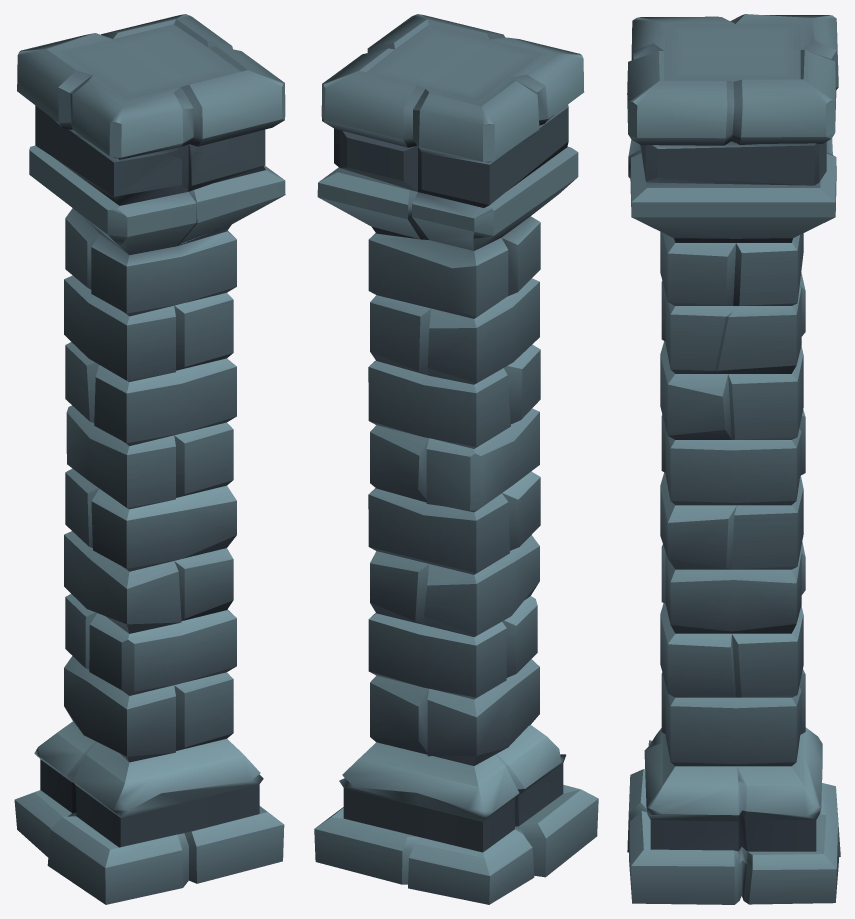
Rendered from Modular_Dungeon_Pillar_Square.fbx.
3 renders of one model, left to right at view 1: azimuth 30°, elevation 25°; view 2: azimuth 150°, elevation 25°; view 3: azimuth 270°, elevation 25°, orthographic. The views are drawn at different scales.
Visible parts, largest first — view 1: Pillar_Square; view 2: Pillar_Square; view 3: Pillar_Square.
Part boxes in pixels (bbox=[...]): Pillar_Square: bbox=[14, 14, 285, 904]; Pillar_Square: bbox=[314, 14, 598, 904]; Pillar_Square: bbox=[627, 14, 840, 904].
Bounding box in the file's own units: 1.93 × 7.71 × 1.84.
Materials: 1 (1 with a texture image).
